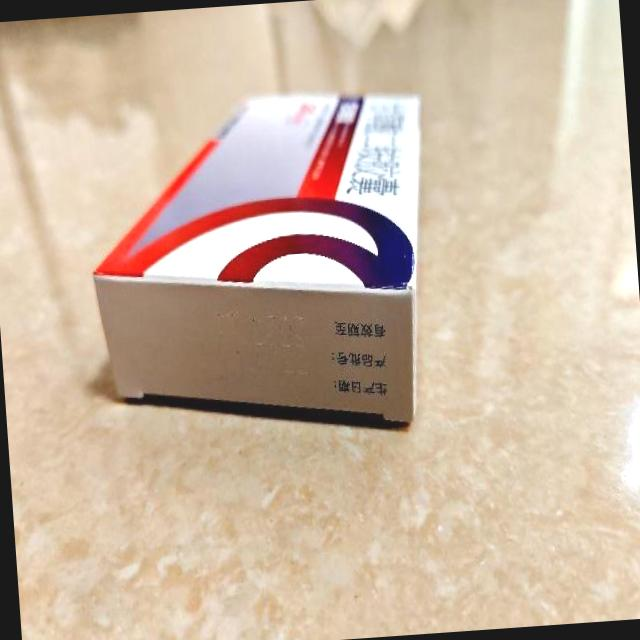box: (80, 83, 442, 442)
